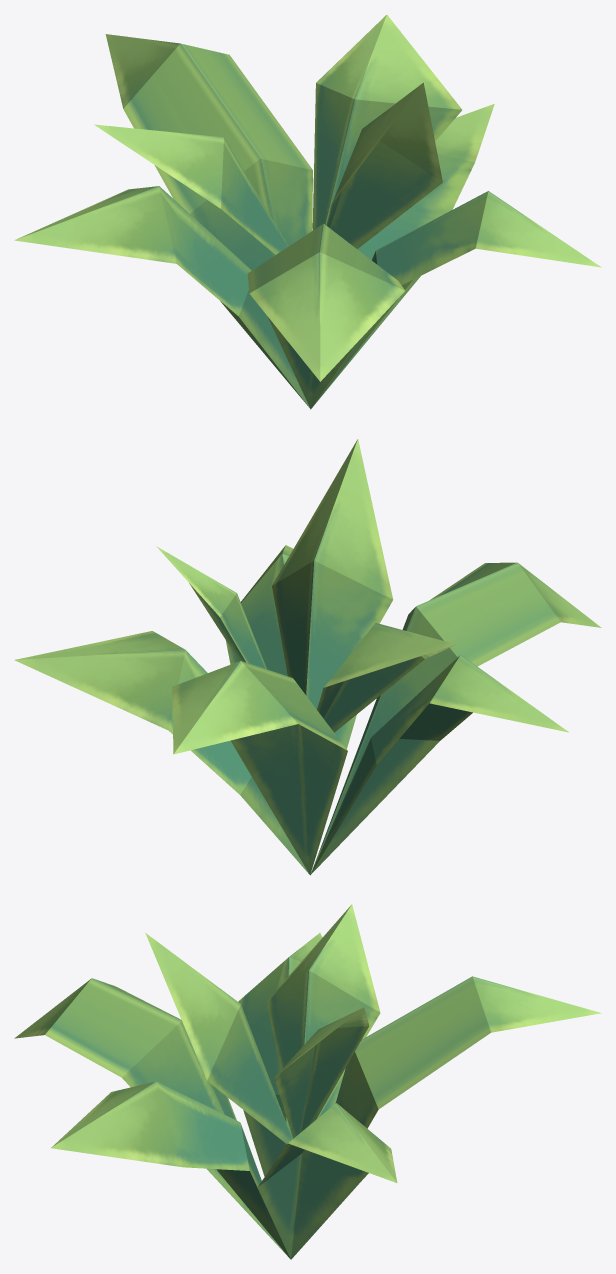
Rendered from Weed6.FBX.
3 renders of one model, top to bottom at view 1: azimuth 30°, elevation 25°; view 2: azimuth 150°, elevation 25°; view 3: azimuth 270°, elevation 25°, orthographic. The views are drawn at different scales.
Parts seen in each view (by area): view 1: Object107; view 2: Object107; view 3: Object107.
Part boxes in pixels (x1,y1,x2,y2): Object107: (14,15,601,409); Object107: (14,439,601,875); Object107: (14,904,601,1259).
Bounding box in the file's own units: 17.49 × 12.08 × 18.84.
